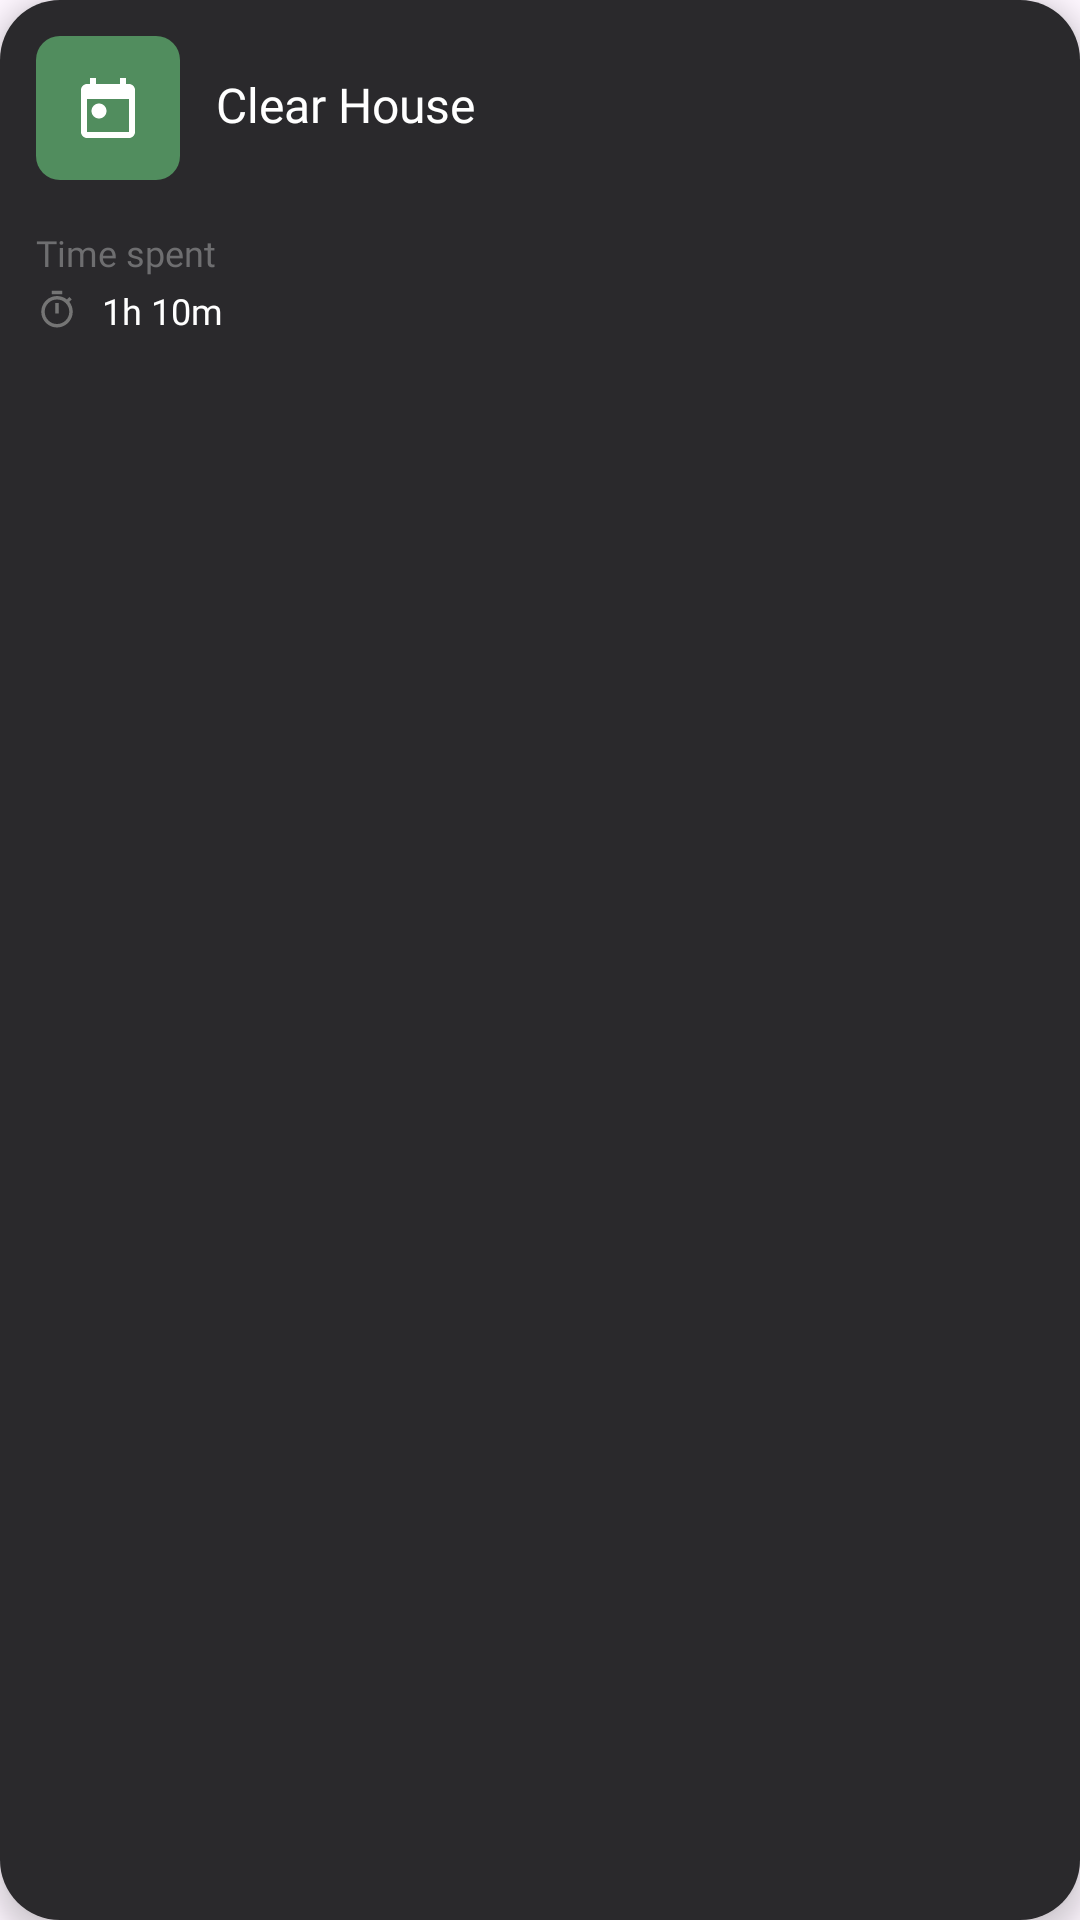

Icons on this 1080x1920 Android screen, each with the point to tap as [x,y]:
task: [108,108]
timer: [57,309]
